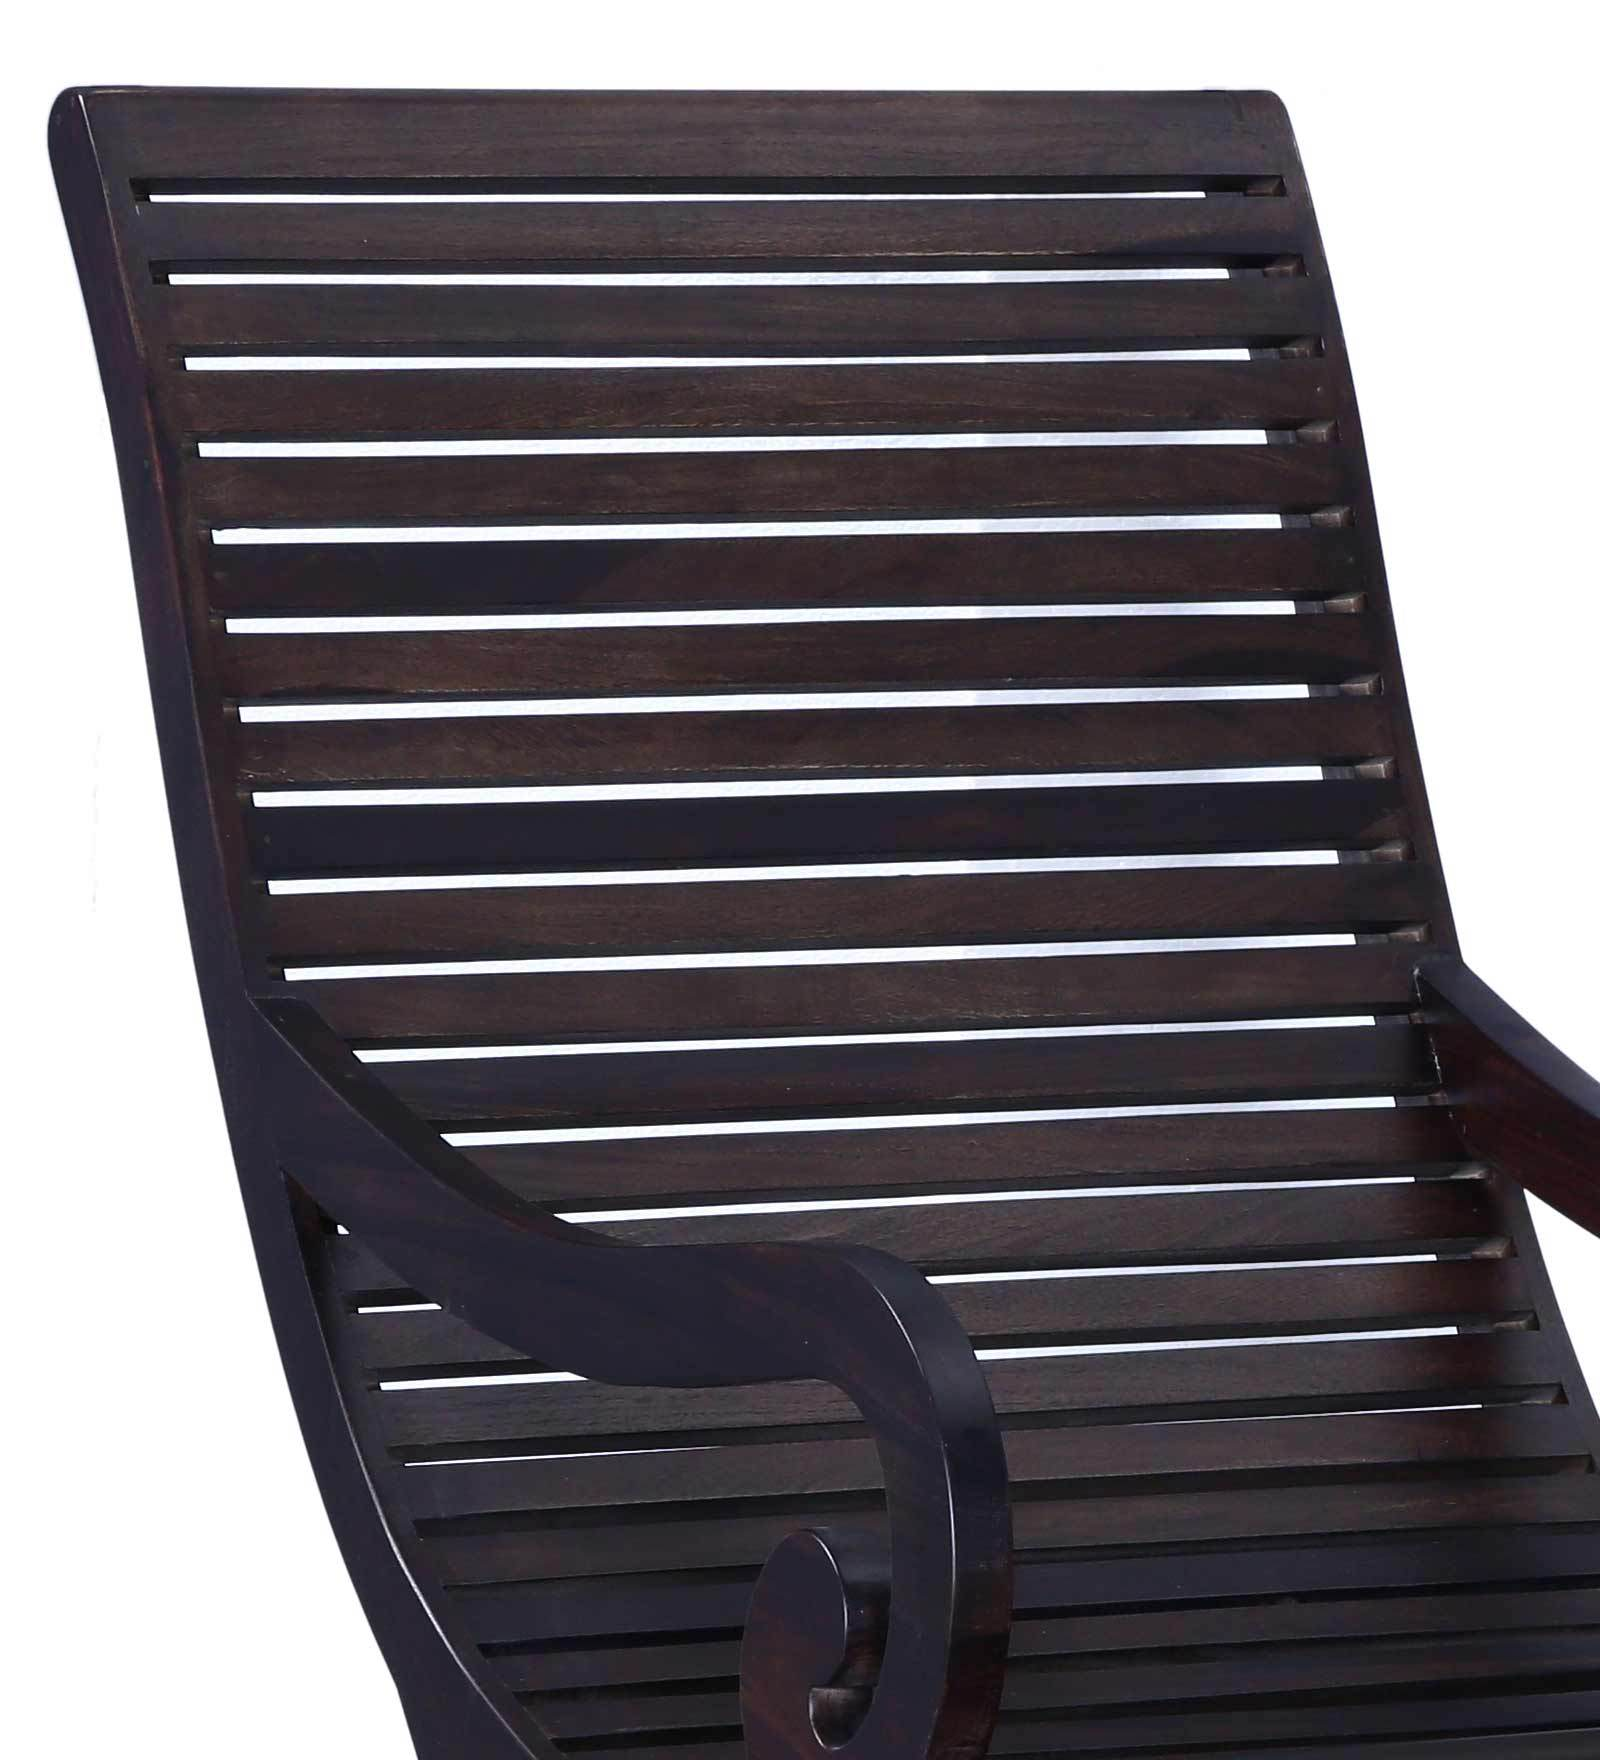Wellesley Rocking Chair in Warm Chestnut Finish by Amberville: (25, 54, 1556, 1760)
